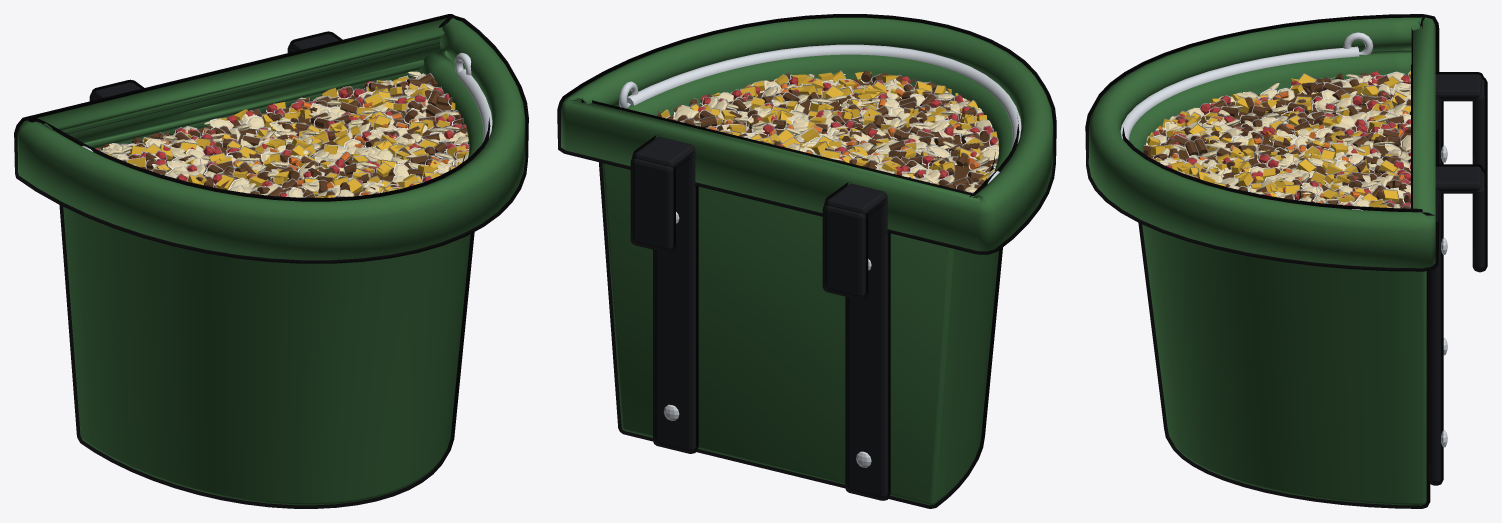
Rendered from eimer-stufe2-12l.glb.
3 renders of one model, left to right at view 1: azimuth 30°, elevation 25°; view 2: azimuth 150°, elevation 25°; view 3: azimuth 270°, elevation 25°, orthographic. The views are drawn at different scales.
Visible parts, largest first — view 1: eimer2_koerper, fuellung_stufe2_flocken, fuellung_stufe2_gelb, fuellung_stufe2_pellets, fuellung_stufe2_rot, fuellung_stufe2_basis, fuellung_stufe2_orange, eimer2_buegel, eimer2_haken_r, eimer2_haken_l; view 2: eimer2_koerper, eimer2_haken_l, eimer2_haken_r, fuellung_stufe2_gelb, fuellung_stufe2_flocken, fuellung_stufe2_pellets, eimer2_buegel, fuellung_stufe2_rot, fuellung_stufe2_basis, fuellung_stufe2_orange; view 3: eimer2_koerper, fuellung_stufe2_flocken, fuellung_stufe2_gelb, fuellung_stufe2_pellets, eimer2_haken_r, fuellung_stufe2_rot, eimer2_haken_l, eimer2_buegel, fuellung_stufe2_basis, fuellung_stufe2_orange.
Part boxes in pixels (x1,y1,x2,y2): eimer2_koerper: (14,14,528,508); fuellung_stufe2_flocken: (100,71,468,197); fuellung_stufe2_gelb: (104,75,469,197); fuellung_stufe2_pellets: (100,73,467,197); fuellung_stufe2_rot: (95,81,468,196); fuellung_stufe2_basis: (126,77,467,196); fuellung_stufe2_orange: (158,101,469,195); eimer2_buegel: (457,69,492,142); eimer2_haken_r: (287,31,342,52); eimer2_haken_l: (89,79,143,101); eimer2_koerper: (557,14,1056,508); eimer2_haken_l: (822,182,890,500); eimer2_haken_r: (630,135,698,453); fuellung_stufe2_gelb: (661,70,998,184); fuellung_stufe2_flocken: (673,74,998,193); fuellung_stufe2_pellets: (657,70,997,191); eimer2_buegel: (627,44,1021,150); fuellung_stufe2_rot: (678,76,997,178); fuellung_stufe2_basis: (666,79,997,182); fuellung_stufe2_orange: (707,80,993,184); eimer2_koerper: (1085,14,1439,508); fuellung_stufe2_flocken: (1146,71,1410,208); fuellung_stufe2_gelb: (1146,71,1410,207); fuellung_stufe2_pellets: (1143,73,1410,208); eimer2_haken_r: (1428,164,1487,485); fuellung_stufe2_rot: (1153,71,1410,208); eimer2_haken_l: (1435,72,1487,173); eimer2_buegel: (1120,46,1359,140); fuellung_stufe2_basis: (1147,81,1410,205); fuellung_stufe2_orange: (1151,82,1408,204).
Size of the model in its own units: 47.64 by 34.03 by 38.43.
